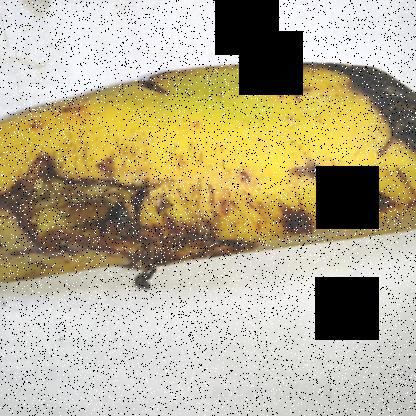ripe: (0, 31, 335, 307)
rotten: (10, 158, 246, 290), (319, 13, 415, 207)
